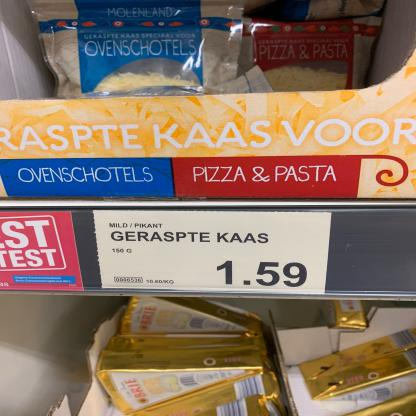prtg: (93, 211, 333, 295)
